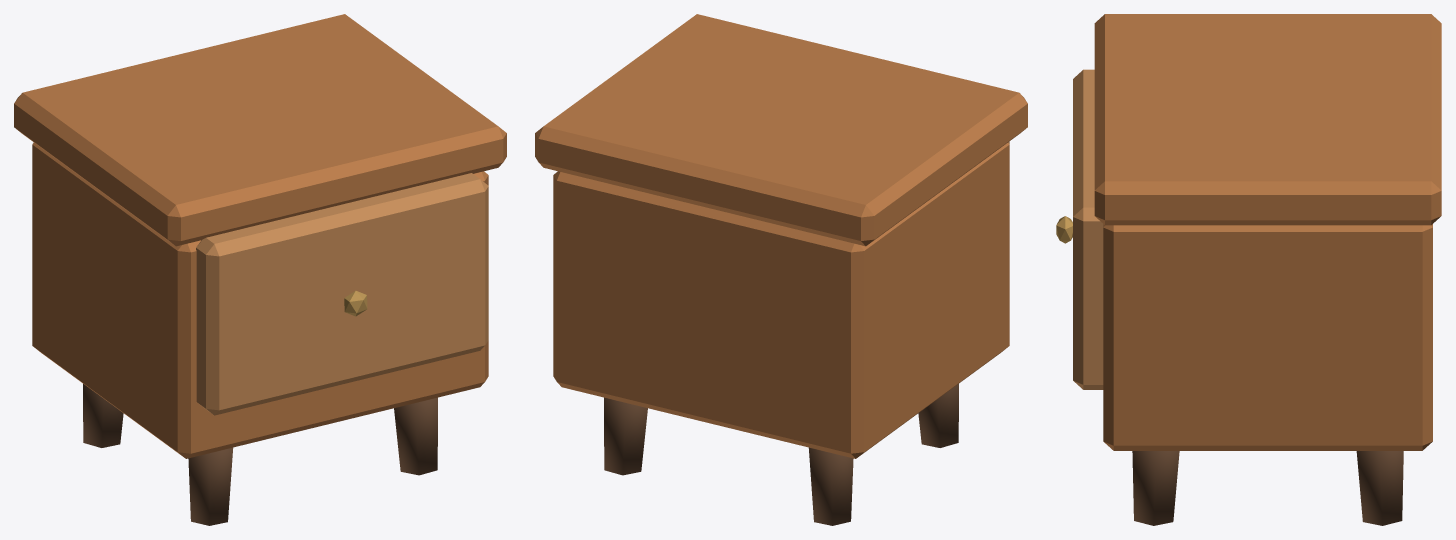
File: nightstand.glb
The picture shows the model from 3 angles, left to right: view 1: azimuth 30°, elevation 25°; view 2: azimuth 150°, elevation 25°; view 3: azimuth 270°, elevation 25°; orthographic projection. The views are drawn at different scales.
Parts seen in each view (by area): view 1: nightstand_cap, nightstand_drawer, nightstand_carcass, nightstand_leg_-0.18_-0.16, nightstand_leg_0.18_-0.16, nightstand_leg_-0.18_0.16; view 2: nightstand_carcass, nightstand_cap, nightstand_leg_-0.18_0.16, nightstand_leg_0.18_0.16, nightstand_leg_-0.18_-0.16; view 3: nightstand_carcass, nightstand_cap, nightstand_drawer, nightstand_leg_0.18_0.16, nightstand_leg_0.18_-0.16.
Part boxes in pixels (x1,y1,x2,y2): nightstand_cap: (14, 14, 506, 246); nightstand_drawer: (196, 173, 488, 415); nightstand_carcass: (32, 142, 488, 458); nightstand_leg_-0.18_-0.16: (188, 447, 233, 525); nightstand_leg_0.18_-0.16: (394, 397, 437, 475); nightstand_leg_-0.18_0.16: (83, 384, 123, 447); nightstand_carcass: (553, 142, 1009, 458); nightstand_cap: (535, 14, 1027, 246); nightstand_leg_-0.18_0.16: (808, 447, 853, 525); nightstand_leg_0.18_0.16: (604, 397, 647, 475); nightstand_leg_-0.18_-0.16: (918, 384, 958, 447); nightstand_carcass: (1103, 224, 1432, 450); nightstand_cap: (1094, 14, 1441, 225); nightstand_drawer: (1073, 69, 1103, 389); nightstand_leg_0.18_0.16: (1356, 451, 1403, 525); nightstand_leg_0.18_-0.16: (1132, 451, 1179, 525).
Size of the model in its own units: 0.6 by 0.5814 by 0.5551.
